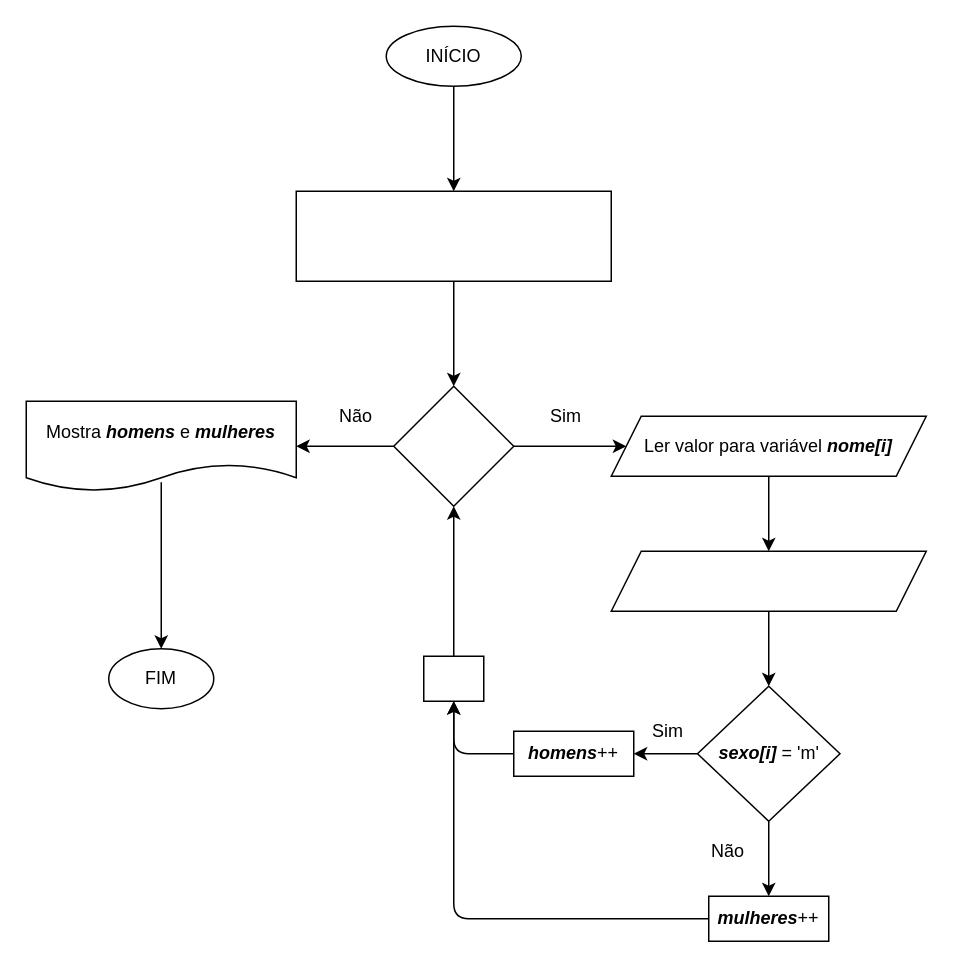
Image size: 953x968. Some labels were removed from this diagram. The centre of each missing label's shape, as x and y in pixels:
"cadeia nome{15] , sexo[15] inteiro homens =0, mulheres =0, i =0" belongs at (x=453, y=235).
"i ++" belongs at (x=453, y=678).
"i < 15" belongs at (x=453, y=445).
"Ler valor para variável sexo[i]" belongs at (x=768, y=580).
